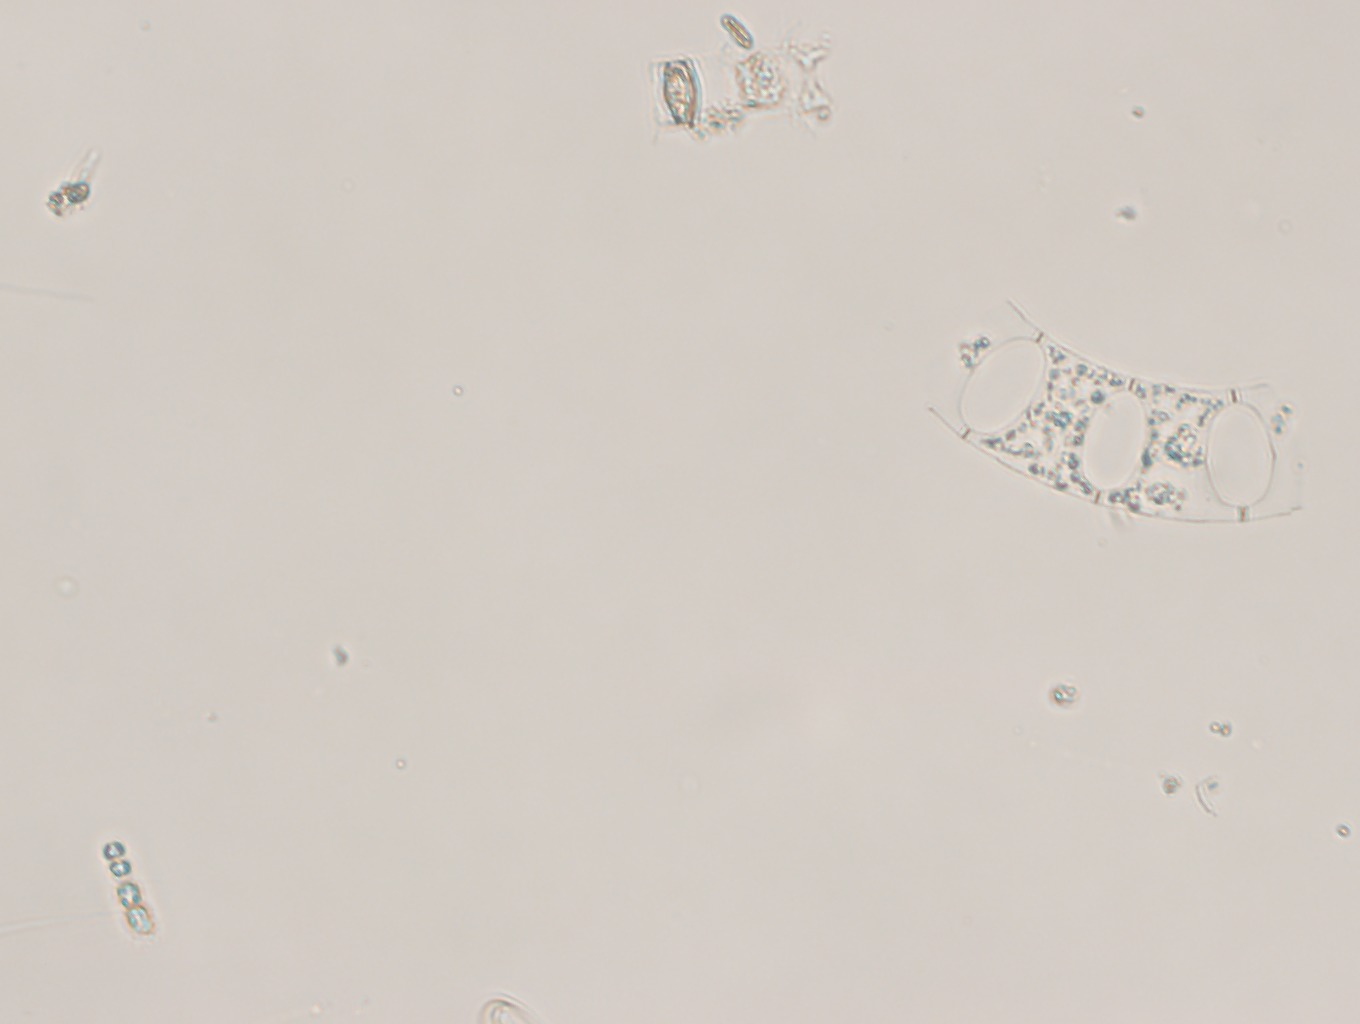chaetoceros: (649, 18, 860, 146)
eucampia: (926, 298, 1305, 522)
